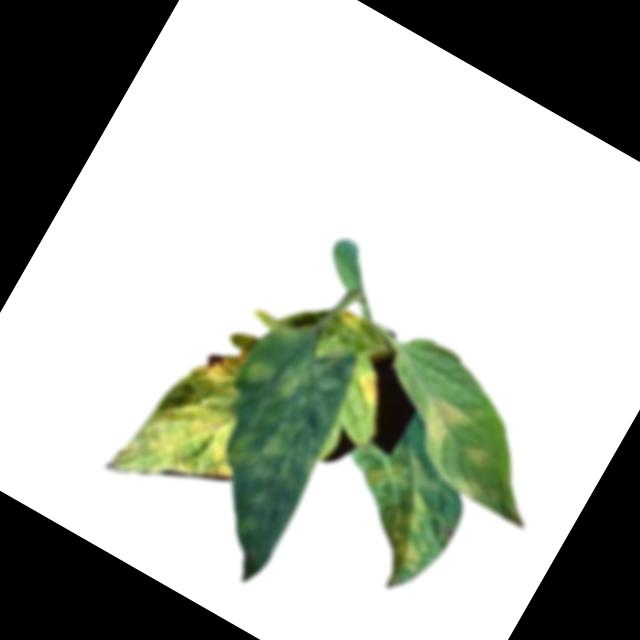Leaf_Mold: (168, 315, 372, 569), (98, 360, 264, 529), (331, 441, 462, 577), (187, 329, 251, 396), (408, 391, 471, 454), (344, 364, 393, 414), (453, 438, 494, 474), (330, 305, 365, 337)
